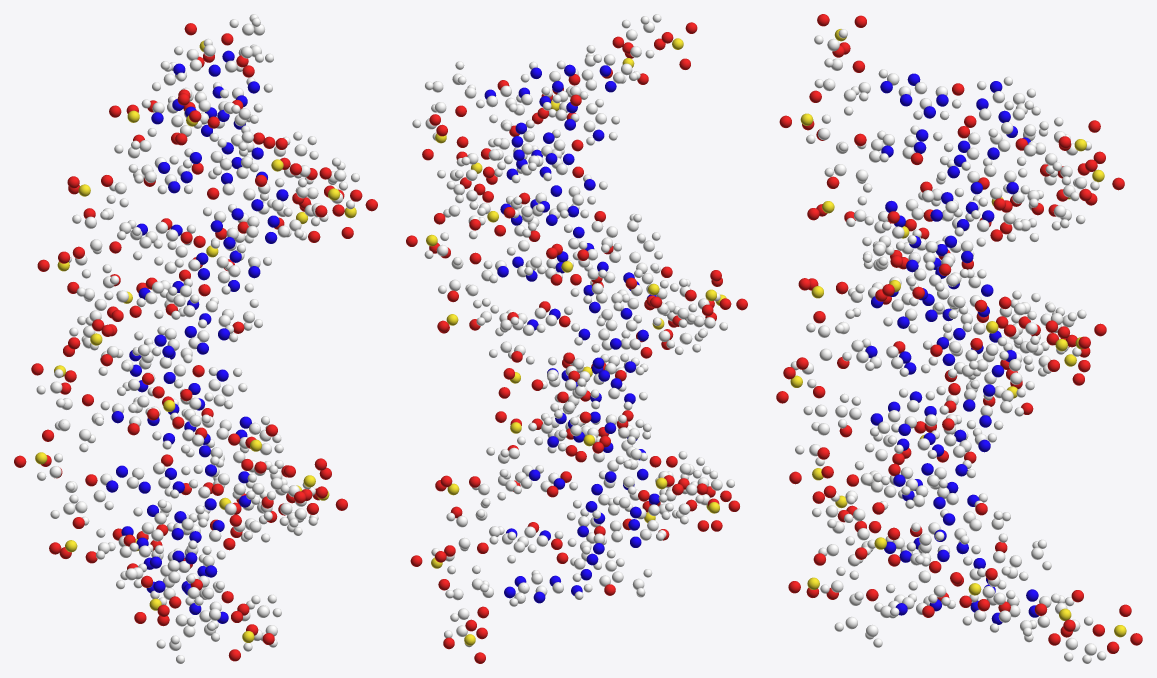
The model's file is DNAHelix_bas.fbx.
3 views of the same model, side by side, from view 1: azimuth 30°, elevation 25°; view 2: azimuth 150°, elevation 25°; view 3: azimuth 270°, elevation 25° (orthographic). The views are drawn at different scales.
Bounding box in the file's own units: 117 × 213 × 117.
Materials: 6 (1 with a texture image).
